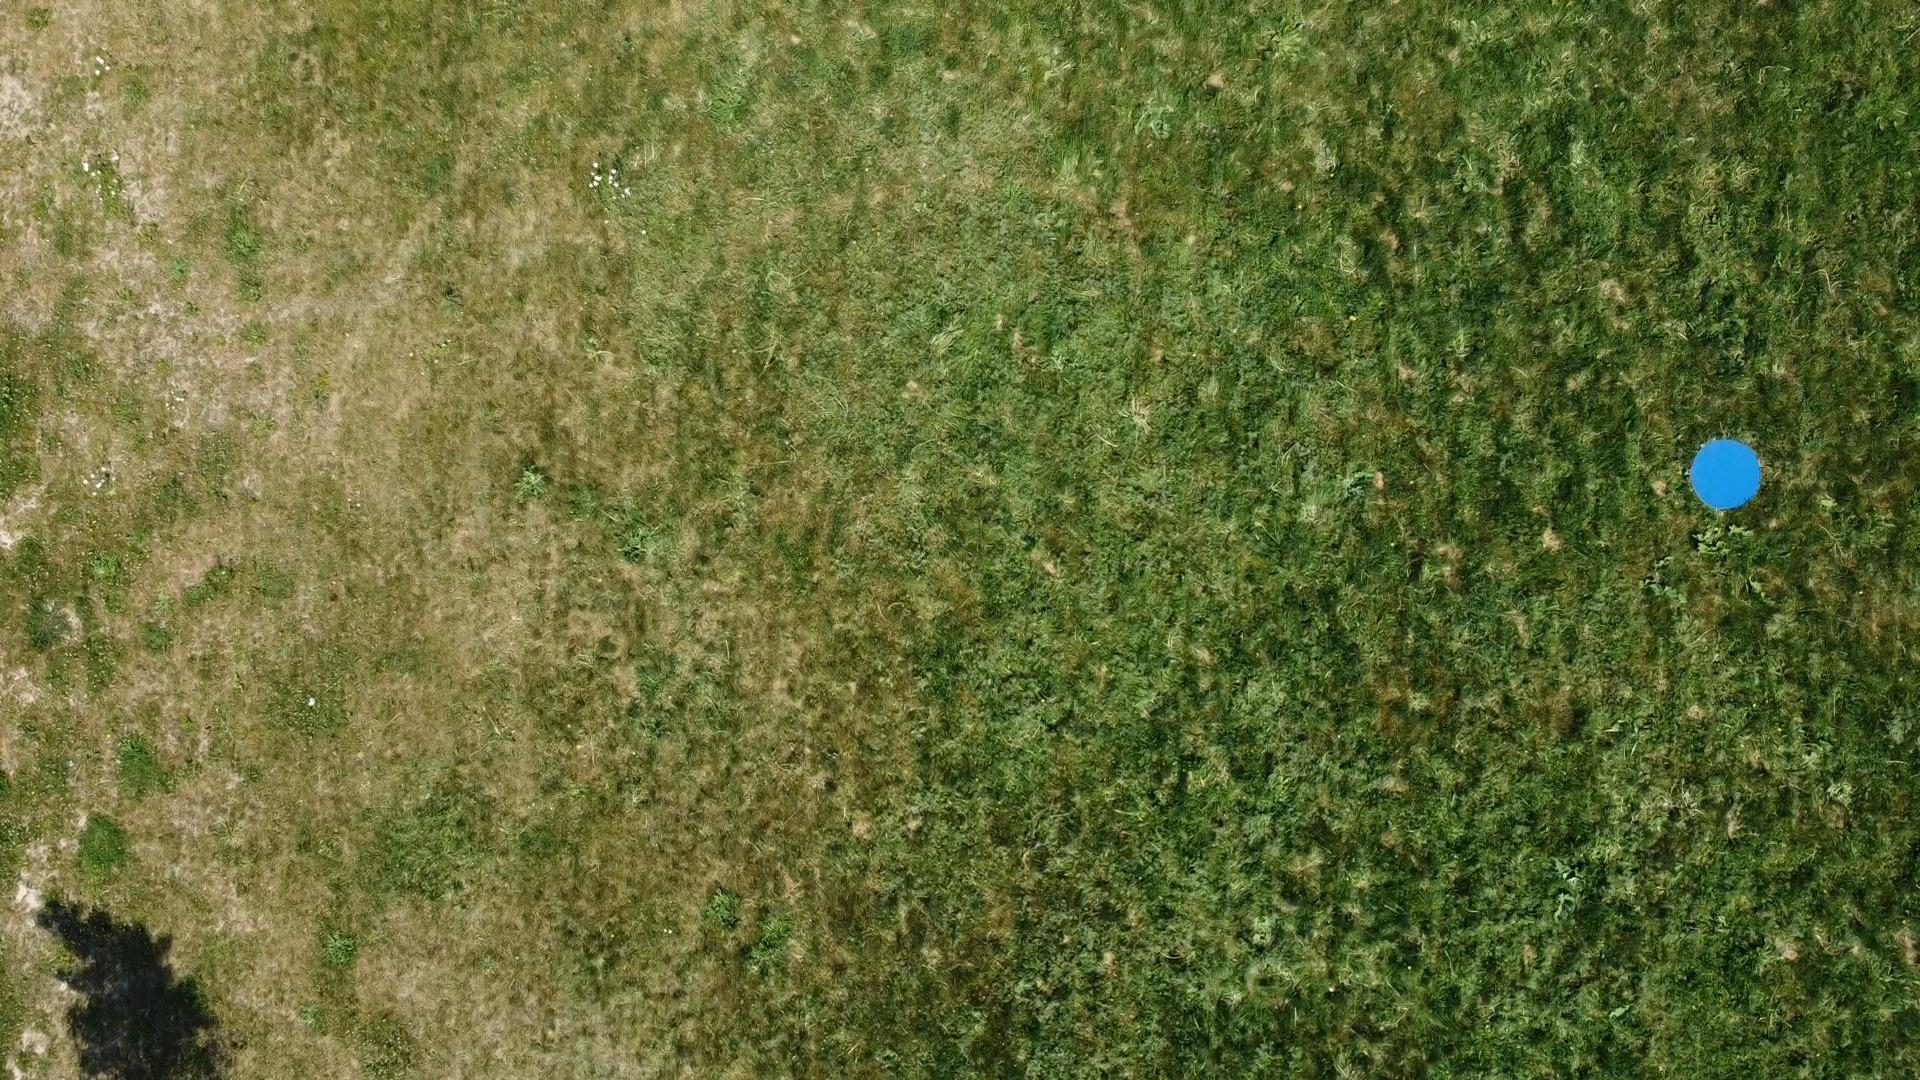Blue: (1687, 435, 1767, 513)
